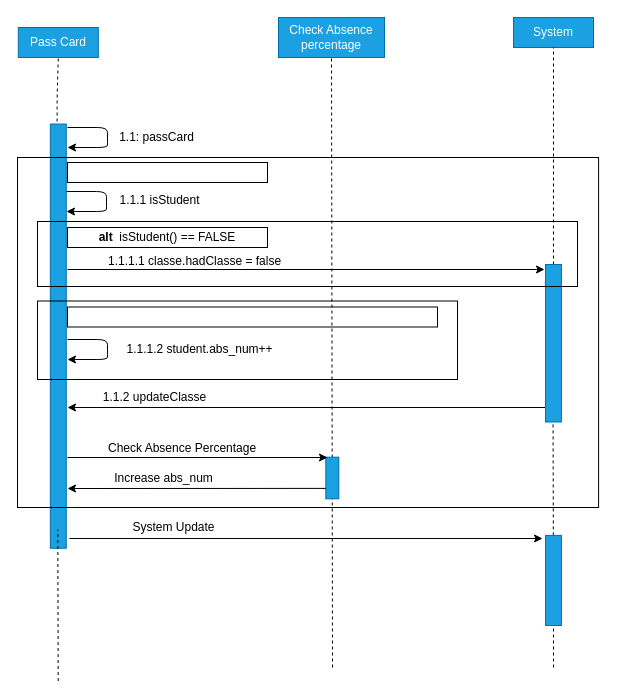
Image size: 617x700. Some labels were removed from this diagram. Each missing label, with the centre of its shape:
"alt isStudent() == TRUE && classe.hadClasse == true" belongs at (252,316).
"alt passCard() == FALSE" belongs at (167,172).
